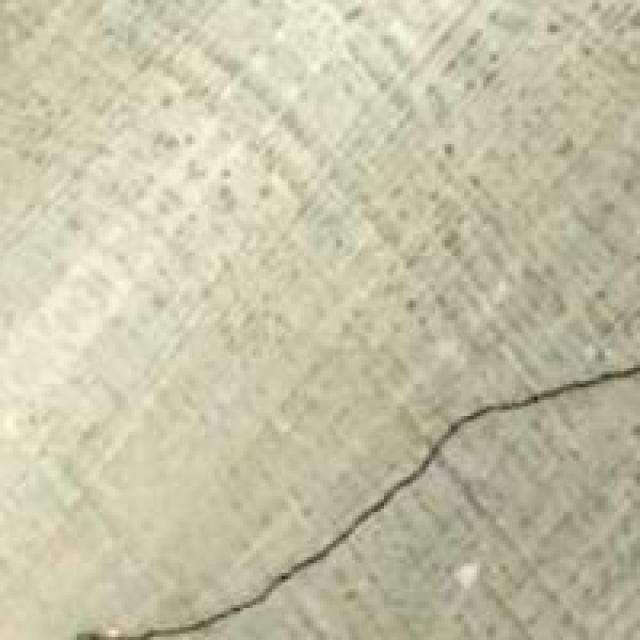Crack: (64, 362, 637, 636)
